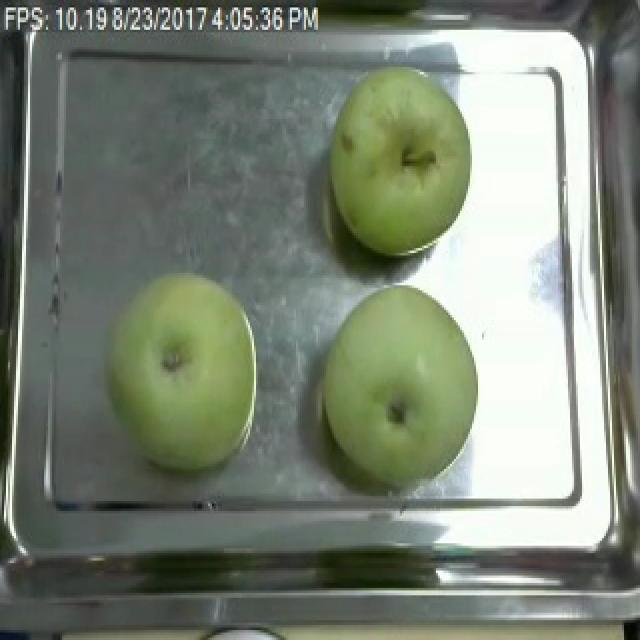50-_ripeness: (315, 59, 499, 266), (318, 275, 490, 487), (99, 268, 270, 481)
